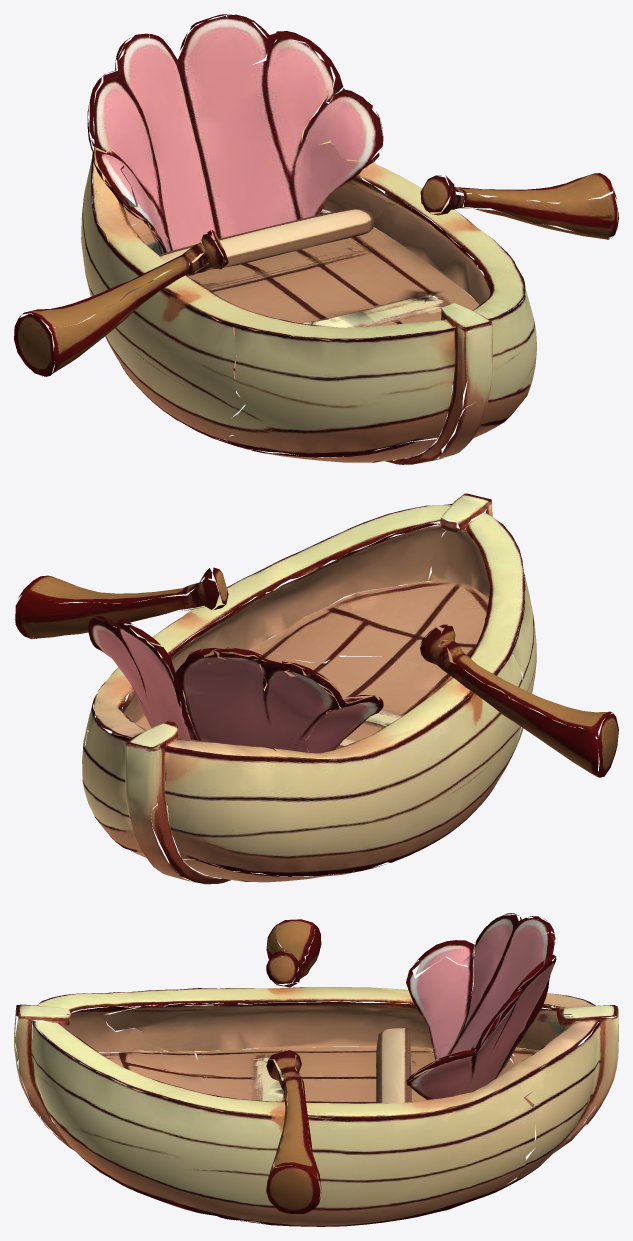
The model's file is kabuk_kayik.glb.
The picture shows the model from 3 angles, top to bottom: view 1: azimuth 30°, elevation 25°; view 2: azimuth 150°, elevation 25°; view 3: azimuth 270°, elevation 25°; orthographic projection. The views are drawn at different scales.
Visible parts, largest first — view 1: geometry_0; view 2: geometry_0; view 3: geometry_0.
Part boxes in pixels (left/top/right/bottom): geometry_0: left=14, top=14, right=618, bottom=464; geometry_0: left=14, top=493, right=618, bottom=884; geometry_0: left=14, top=913, right=618, bottom=1226.
Bounding box in the file's own units: 0.9837 × 0.4572 × 0.9988.
Materials: 1 (1 with a texture image).
